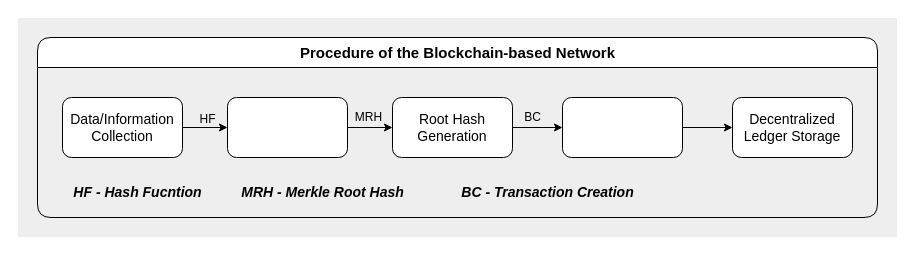
The diagram is 915 pixels wide and 255 high, and some of its shapes have lost their labels. The shapes that lost their labels are listed below. From the top down, each one's centre as x and y in pixels, then its label:
At point 287,127: "Data Communication".
At point 622,127: "Validation and Verification".
